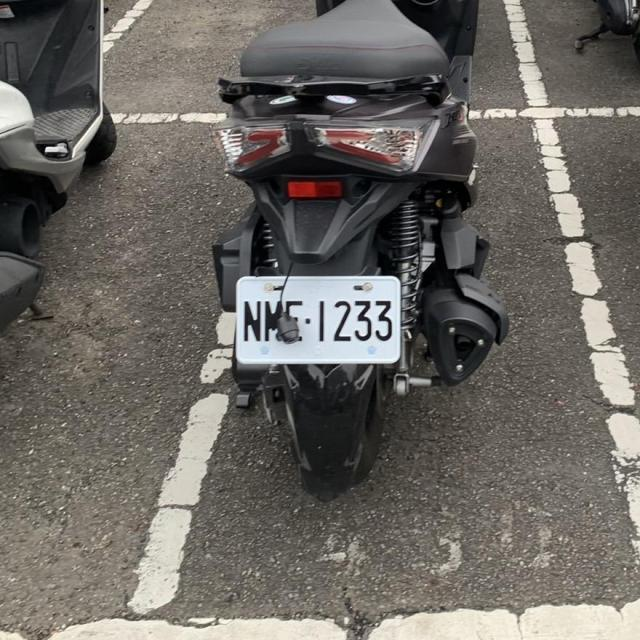W: (234, 272, 404, 366)
